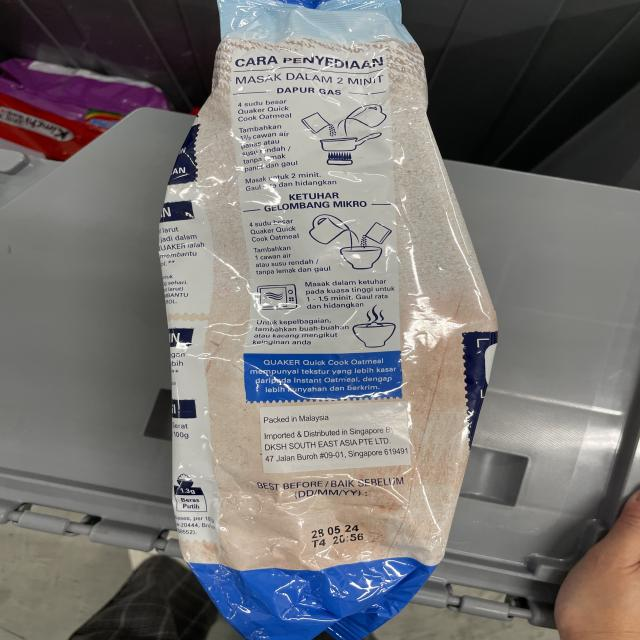object_name: (182, 13, 468, 600)
